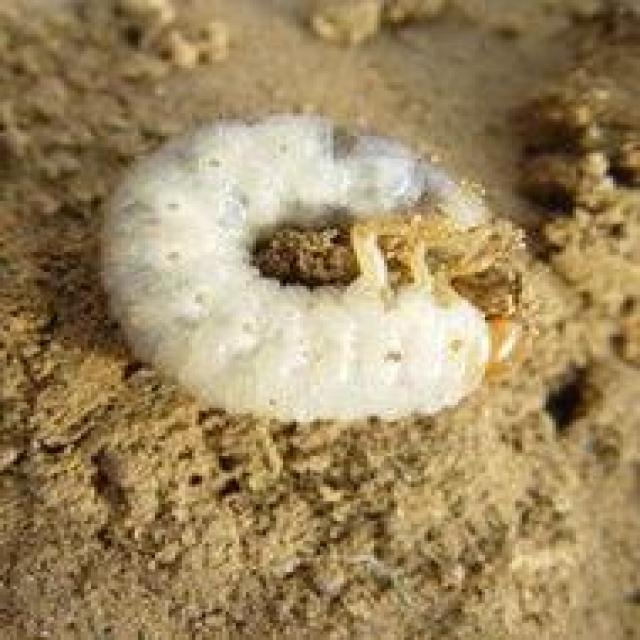grub: (89, 112, 493, 412)
